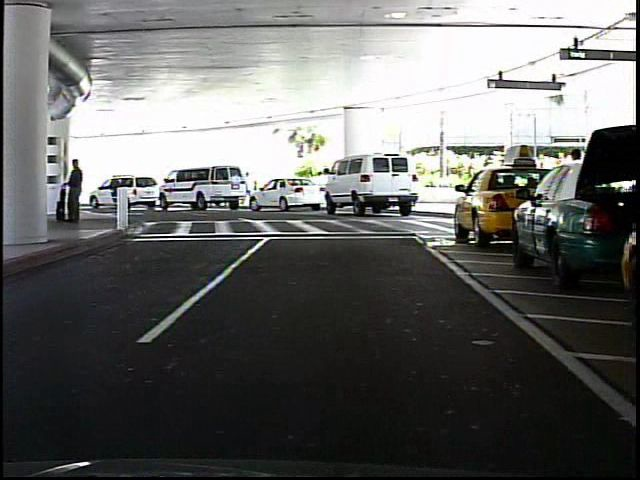person: (68, 157, 87, 223), (245, 170, 256, 191)
